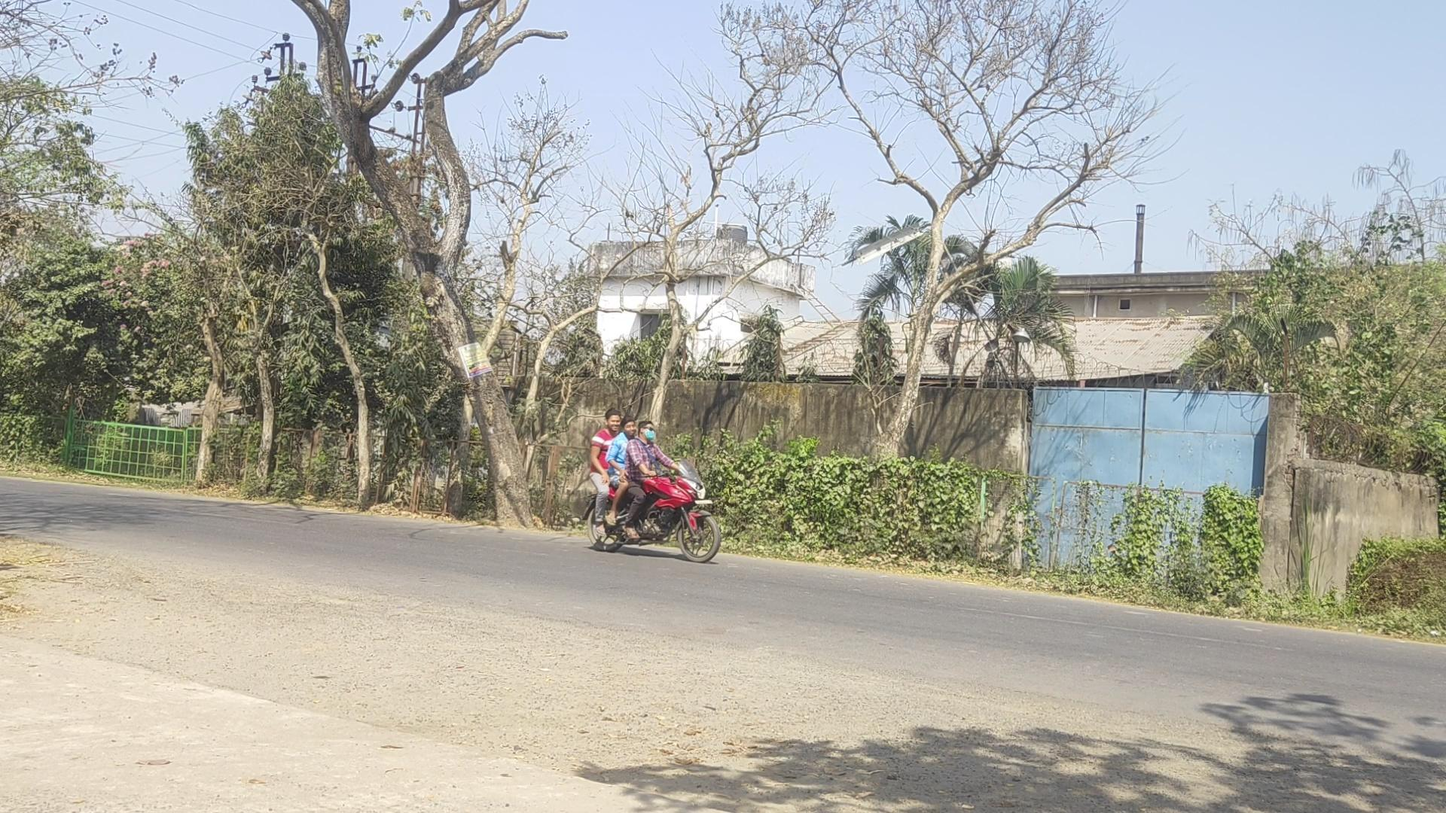bike: (582, 409, 720, 563)
